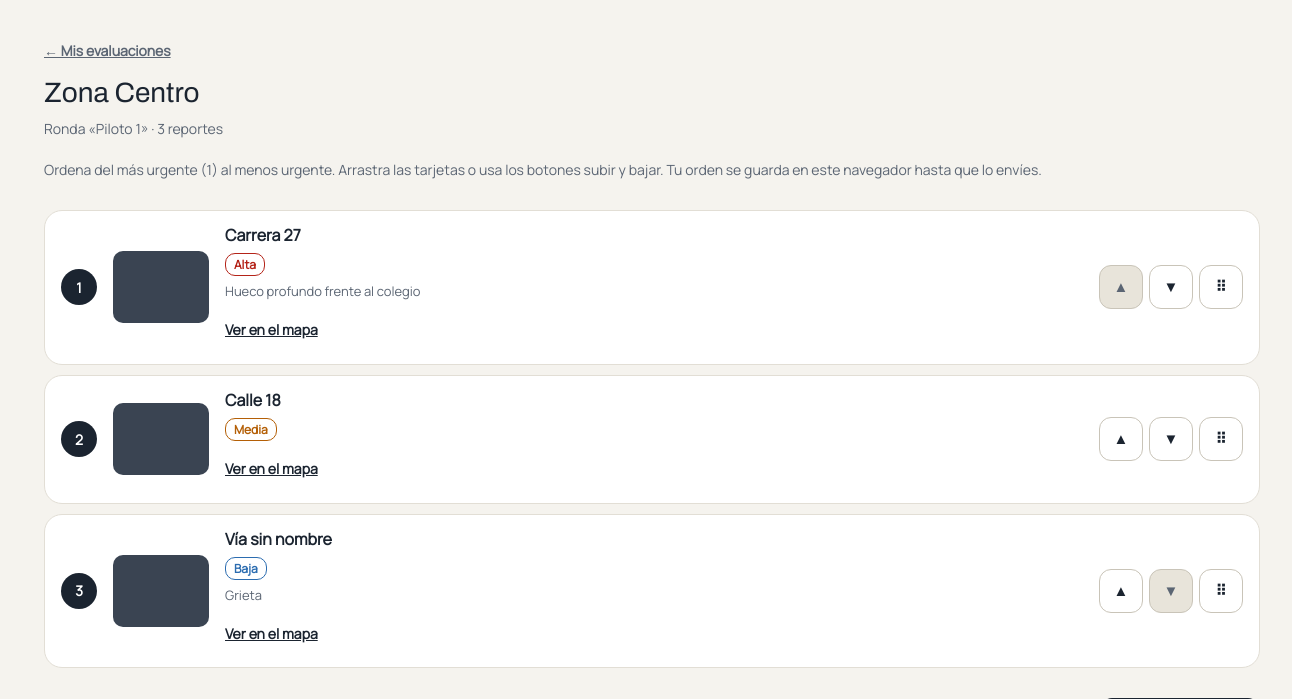
Test: vista a ciegas de una zona › enviar pide confirmación y manda el orden visible
The width and height of the screenshot is (1292, 699).
Click the button named "Bajar Carrera 27" at (1171, 287), box x1=1149 y1=265 x2=1193 y2=309
(page scrolled)
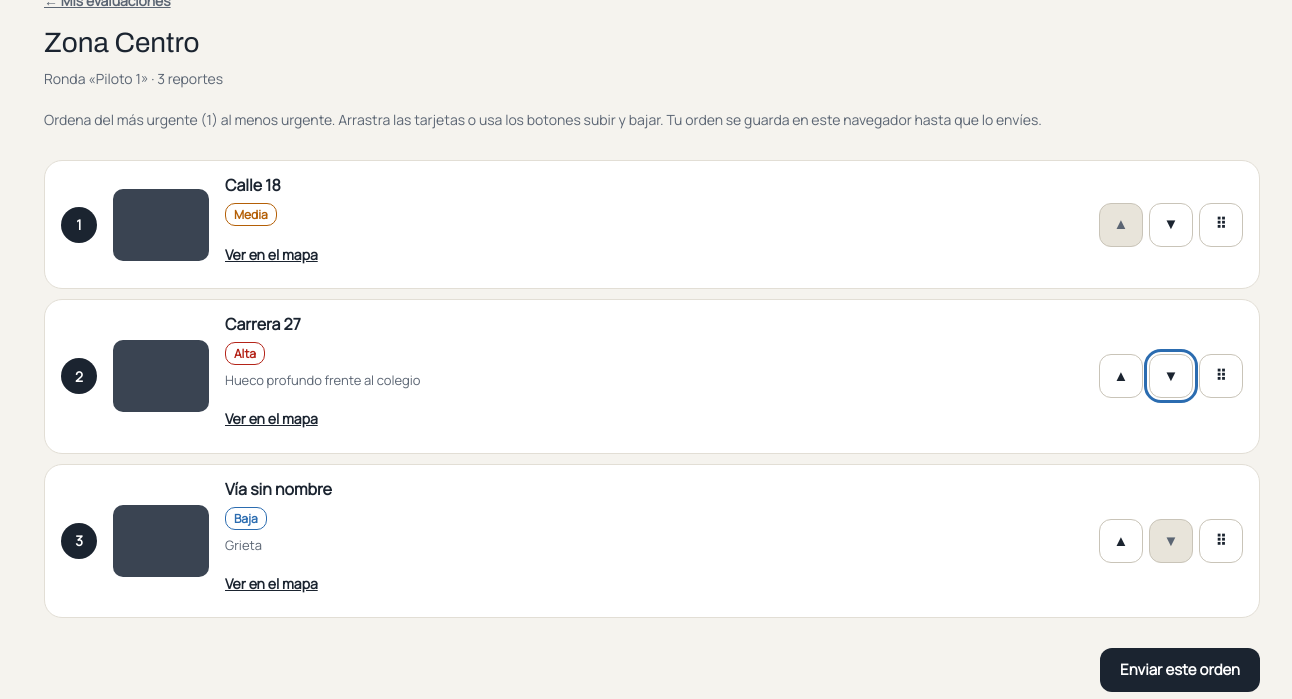
Click the button "Enviar este orden" at (1180, 670), box x1=1100 y1=648 x2=1260 y2=692
(page scrolled)
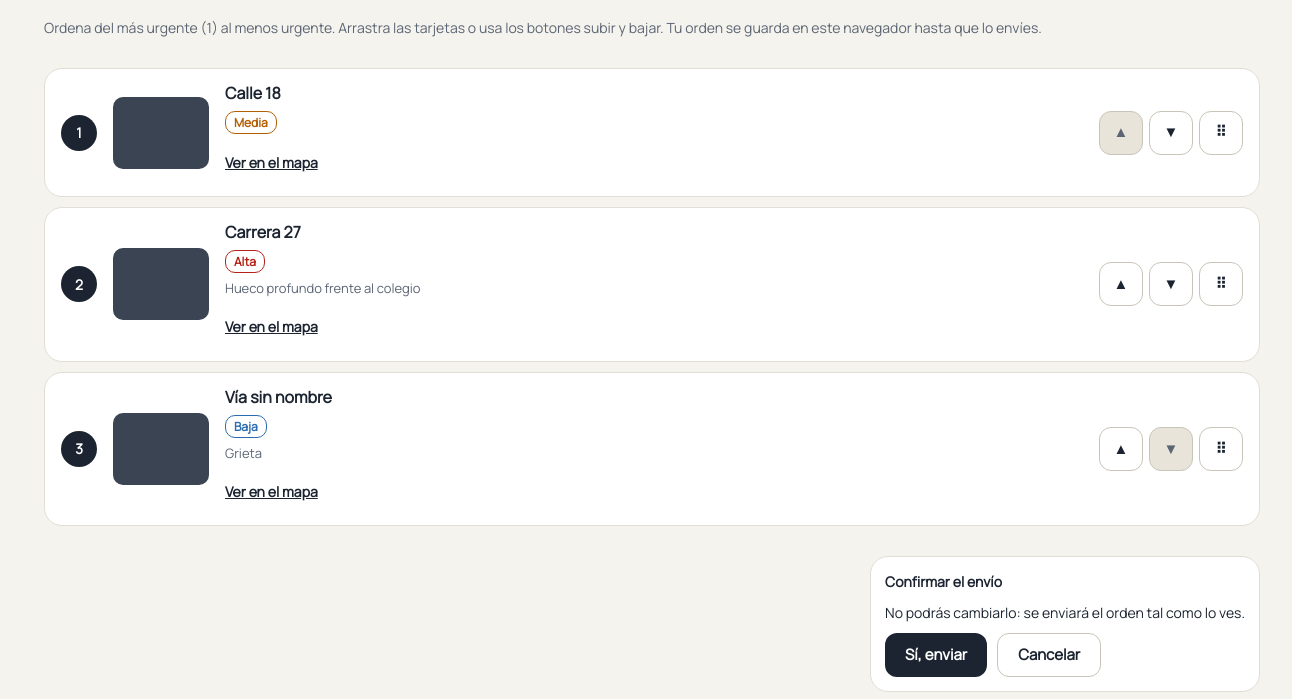
expect the element "Confirmar el envío" shows "No podrás cambiarlo": met, box x1=885 y1=603 x2=1245 y2=622
Click the button "Sí, enviar" at (936, 655), box x1=885 y1=633 x2=987 y2=677
(page scrolled)
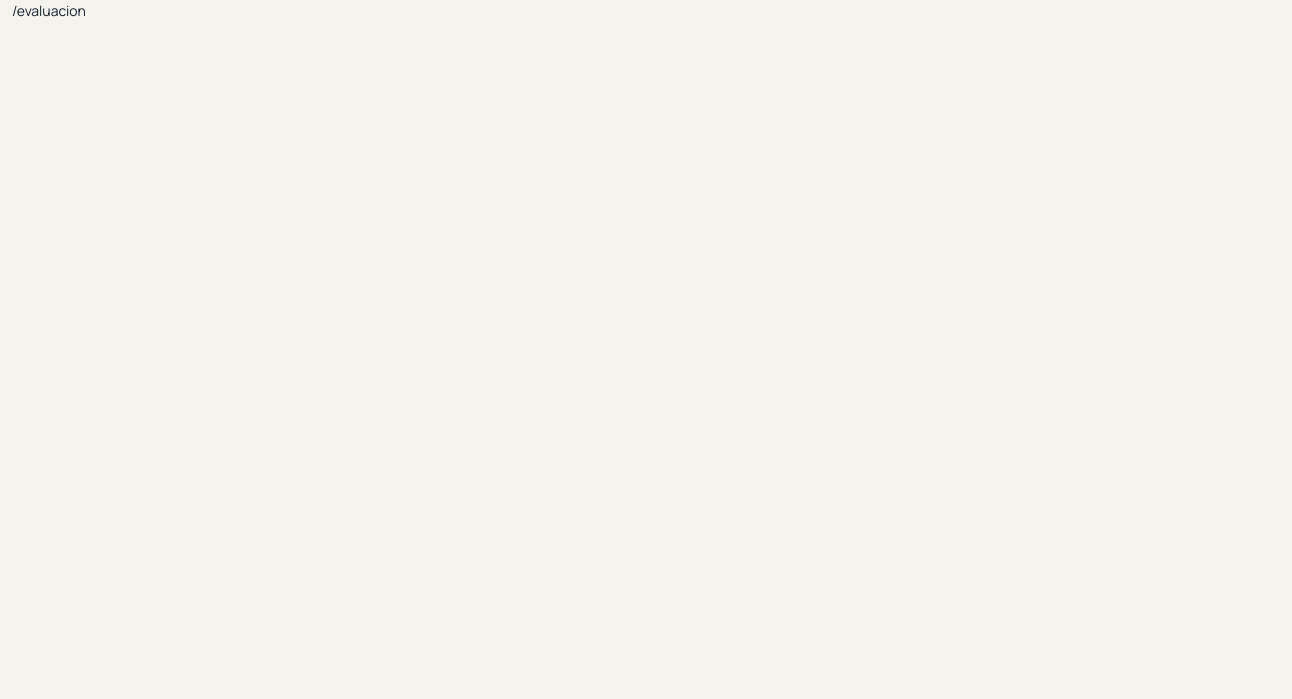
expect the text with test id "location" reads "/evaluacion": met, box x1=12 y1=1 x2=86 y2=20
